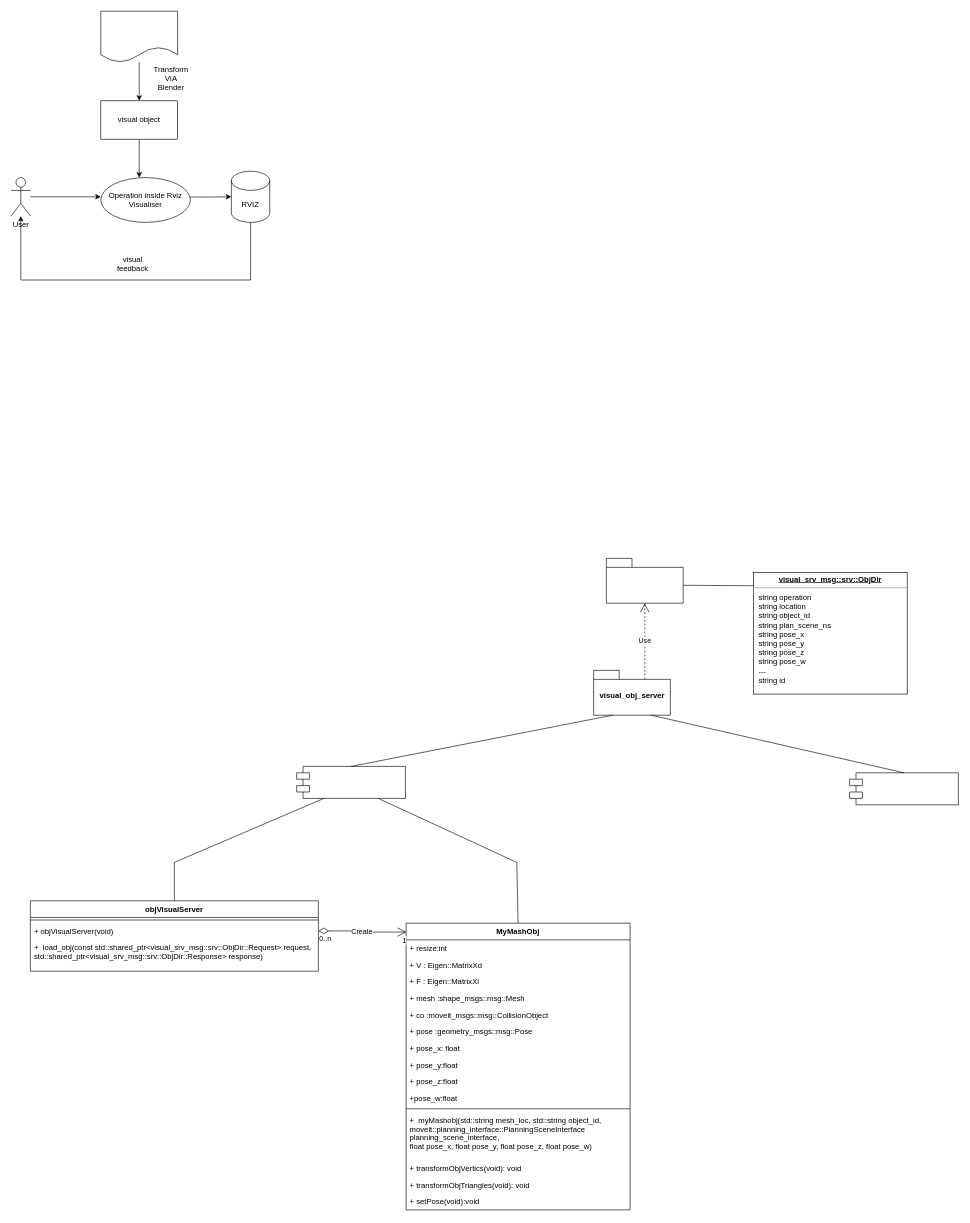
Image size: 970x1223. Some labels were removed from this diagram. The shapes that lost their labels are listed below. From the top down, each one's box as (x1, y1, x2, y2) in pixels, then its label:
(100, 11, 178, 62): STL visual file
(606, 558, 683, 603): visual_srv_msg
(296, 766, 405, 798): visual_server.cpp
(849, 772, 958, 805): visual_client.cpp
